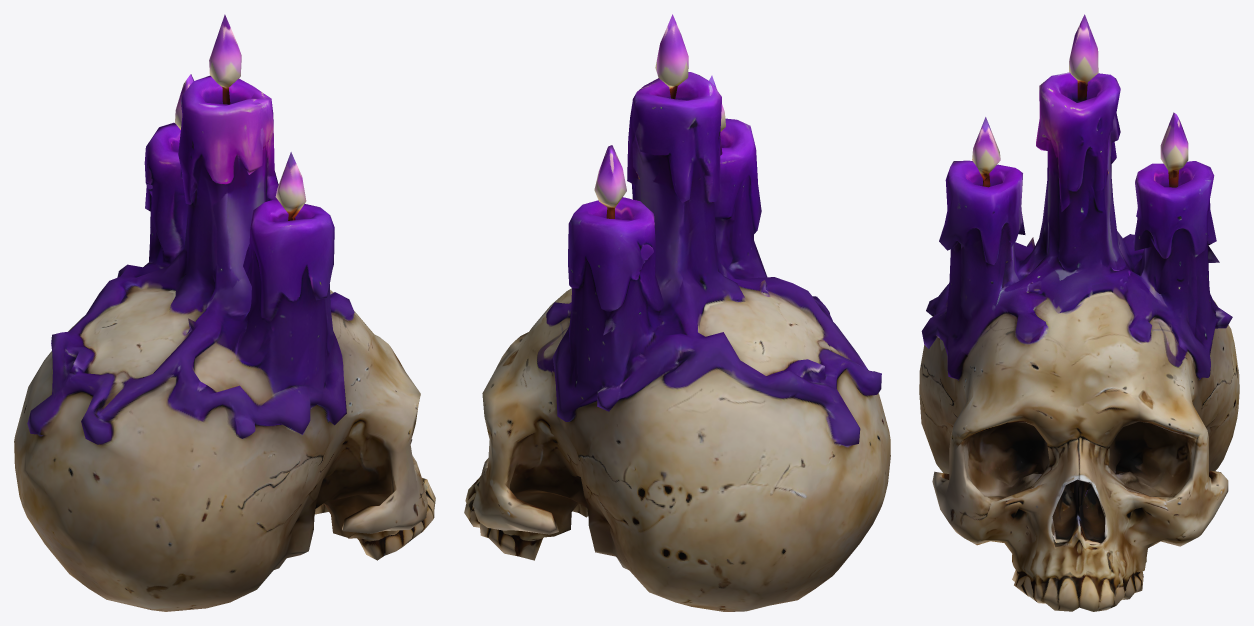
File: skull+candle+holder+3d+model.obj
3 renders of one model, left to right at view 1: azimuth 30°, elevation 25°; view 2: azimuth 150°, elevation 25°; view 3: azimuth 270°, elevation 25°, orthographic. The views are drawn at different scales.
Parts seen in each view (by area): view 1: tripo_node_62e503b8-39cf-4437-9e05-1d9407777792; view 2: tripo_node_62e503b8-39cf-4437-9e05-1d9407777792; view 3: tripo_node_62e503b8-39cf-4437-9e05-1d9407777792.
Boxes of the visible parts, x1,y1,x2,y2 form: tripo_node_62e503b8-39cf-4437-9e05-1d9407777792: (14,14,435,611); tripo_node_62e503b8-39cf-4437-9e05-1d9407777792: (464,14,890,611); tripo_node_62e503b8-39cf-4437-9e05-1d9407777792: (919,14,1239,611).
Size of the model in its own units: 0.7485 by 1.01 by 0.5613.
1 material, 1 textured.
